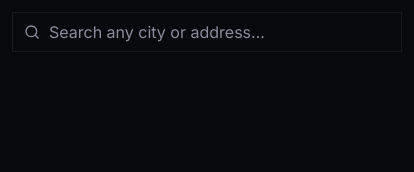
Test: LocationSearch › renders a no-matches message for a query with no results
Type "zzzzzzzz" into the dropdown. click: (207, 32)
box: [12,12,402,52]
Wait 400 ms
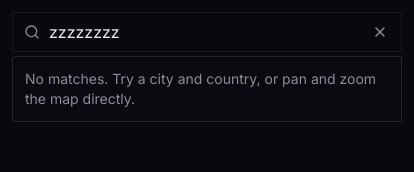
Expected: the text "No matches. Try a city and country, or pan and zoom the map directly." is shown, [25,69,389,109]
